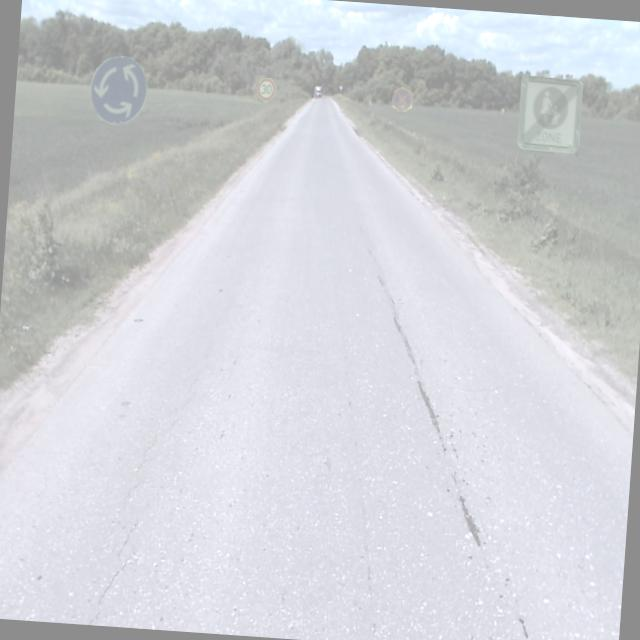road: (0, 95, 632, 640)
